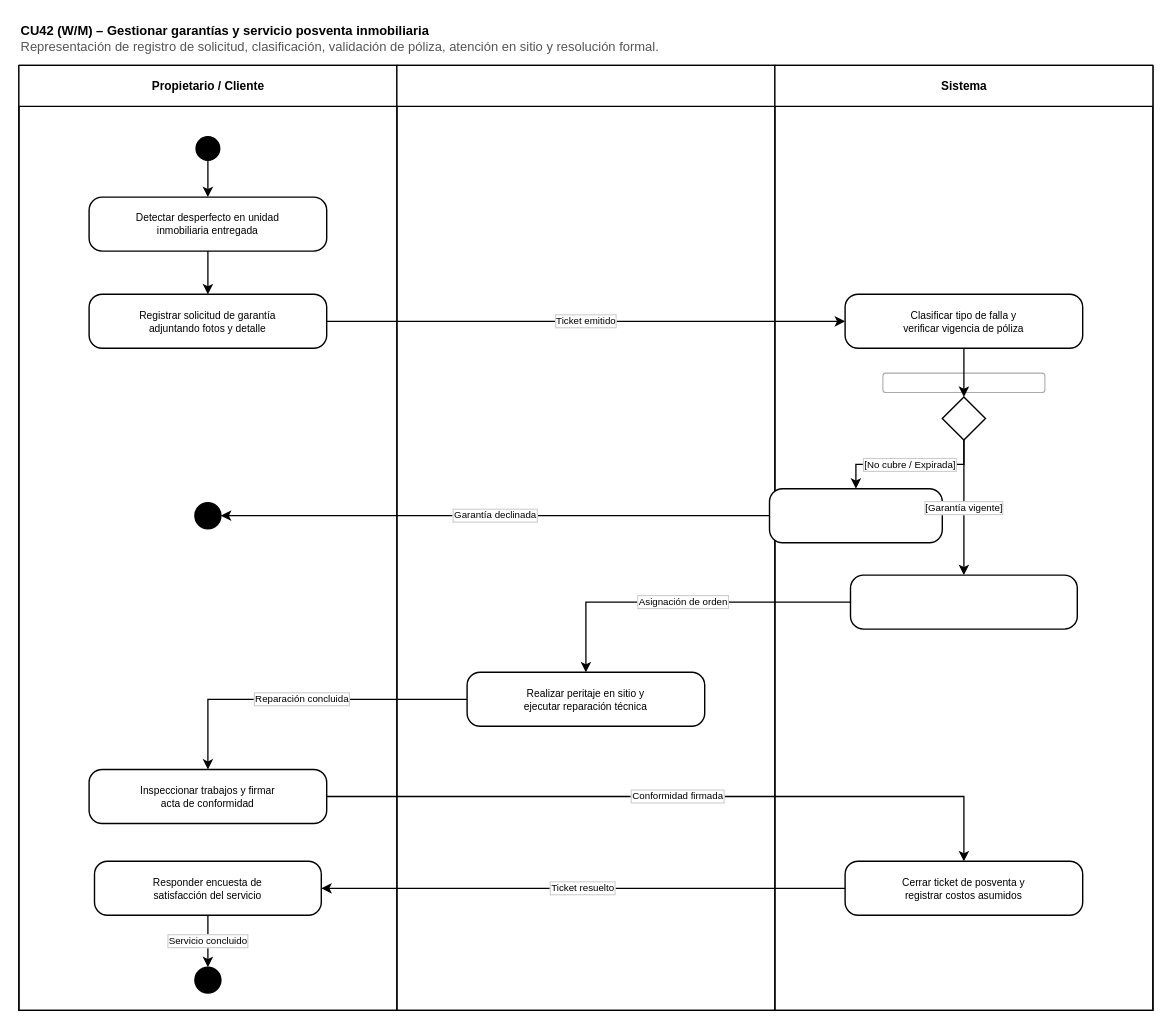
Some shapes in this 1173 by 1029 pixel diagram are drawn without their labels. Here are the shapes that lost their labels. From the top down, the box of each, then its label:
(882, 372, 1045, 393): ¿Cubre la póliza de garantía?
(768, 488, 943, 543): Notificar improcedencia y cotizar servicio particular
(396, 64, 775, 1010): Técnico de Posventa
(849, 574, 1078, 629): Aprobar solicitud, asignar técnico y programar visita
